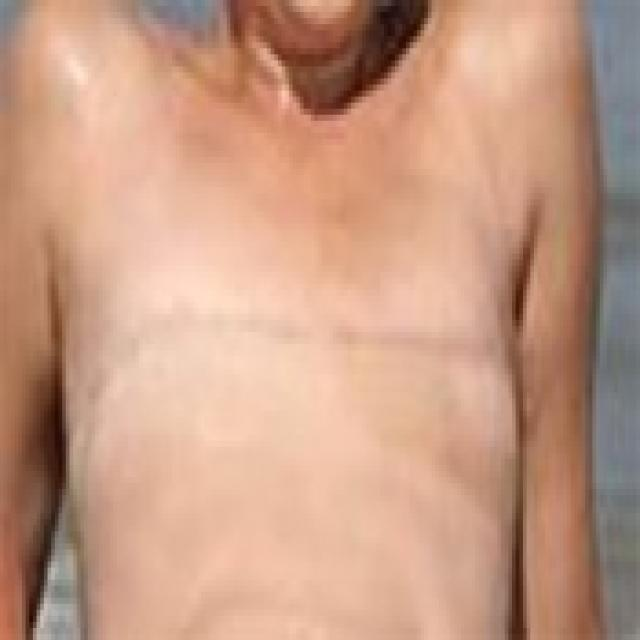Seno herido: (68, 252, 316, 499), (322, 252, 515, 498)
